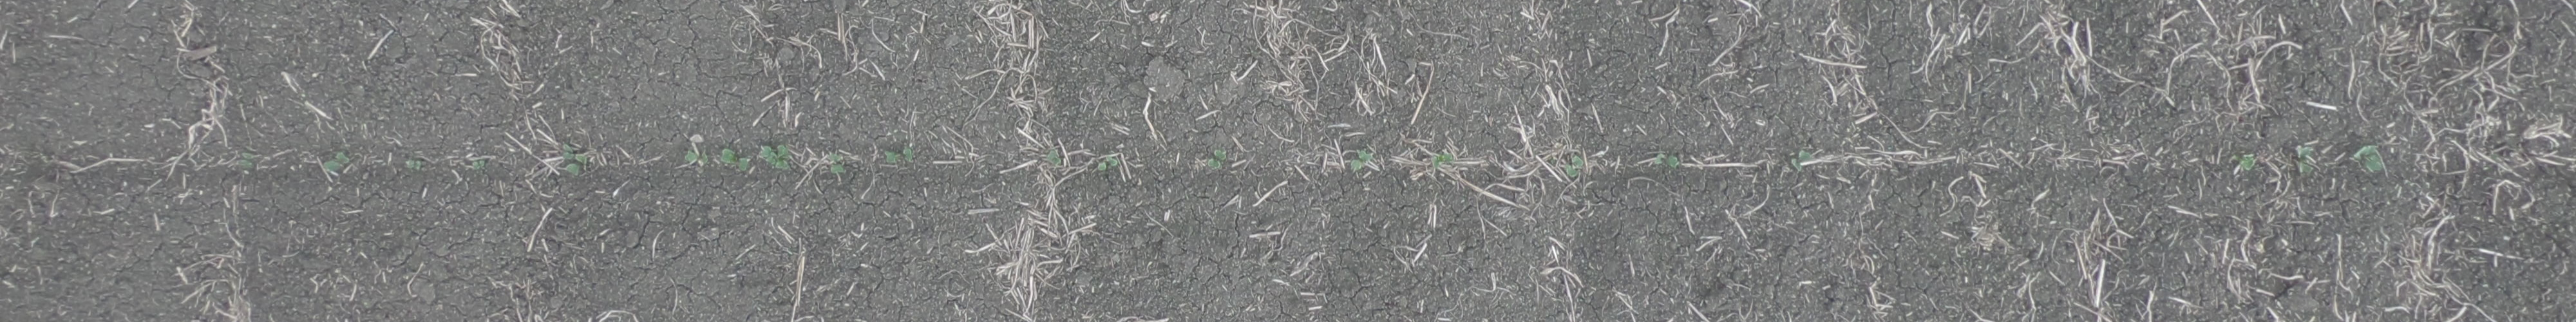isolated: (2353, 145, 2384, 171), (562, 145, 586, 176), (762, 145, 790, 171), (721, 148, 748, 171), (324, 153, 350, 172), (1791, 149, 1812, 172), (884, 146, 912, 163), (2297, 148, 2313, 172), (1566, 156, 1584, 177), (1654, 153, 1677, 169), (1431, 153, 1456, 168), (1209, 149, 1227, 169), (1352, 151, 1370, 171), (685, 151, 706, 166), (238, 149, 253, 169), (1097, 156, 1117, 171), (830, 156, 844, 174), (1046, 149, 1061, 166), (2239, 154, 2254, 171), (407, 159, 424, 172), (471, 159, 488, 169)
